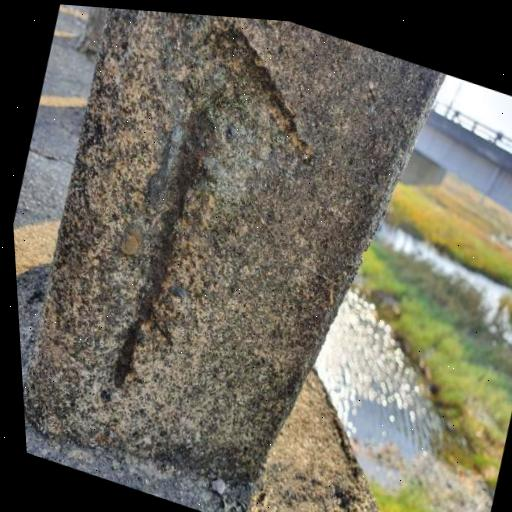exposed_rebar: (114, 107, 209, 387)
